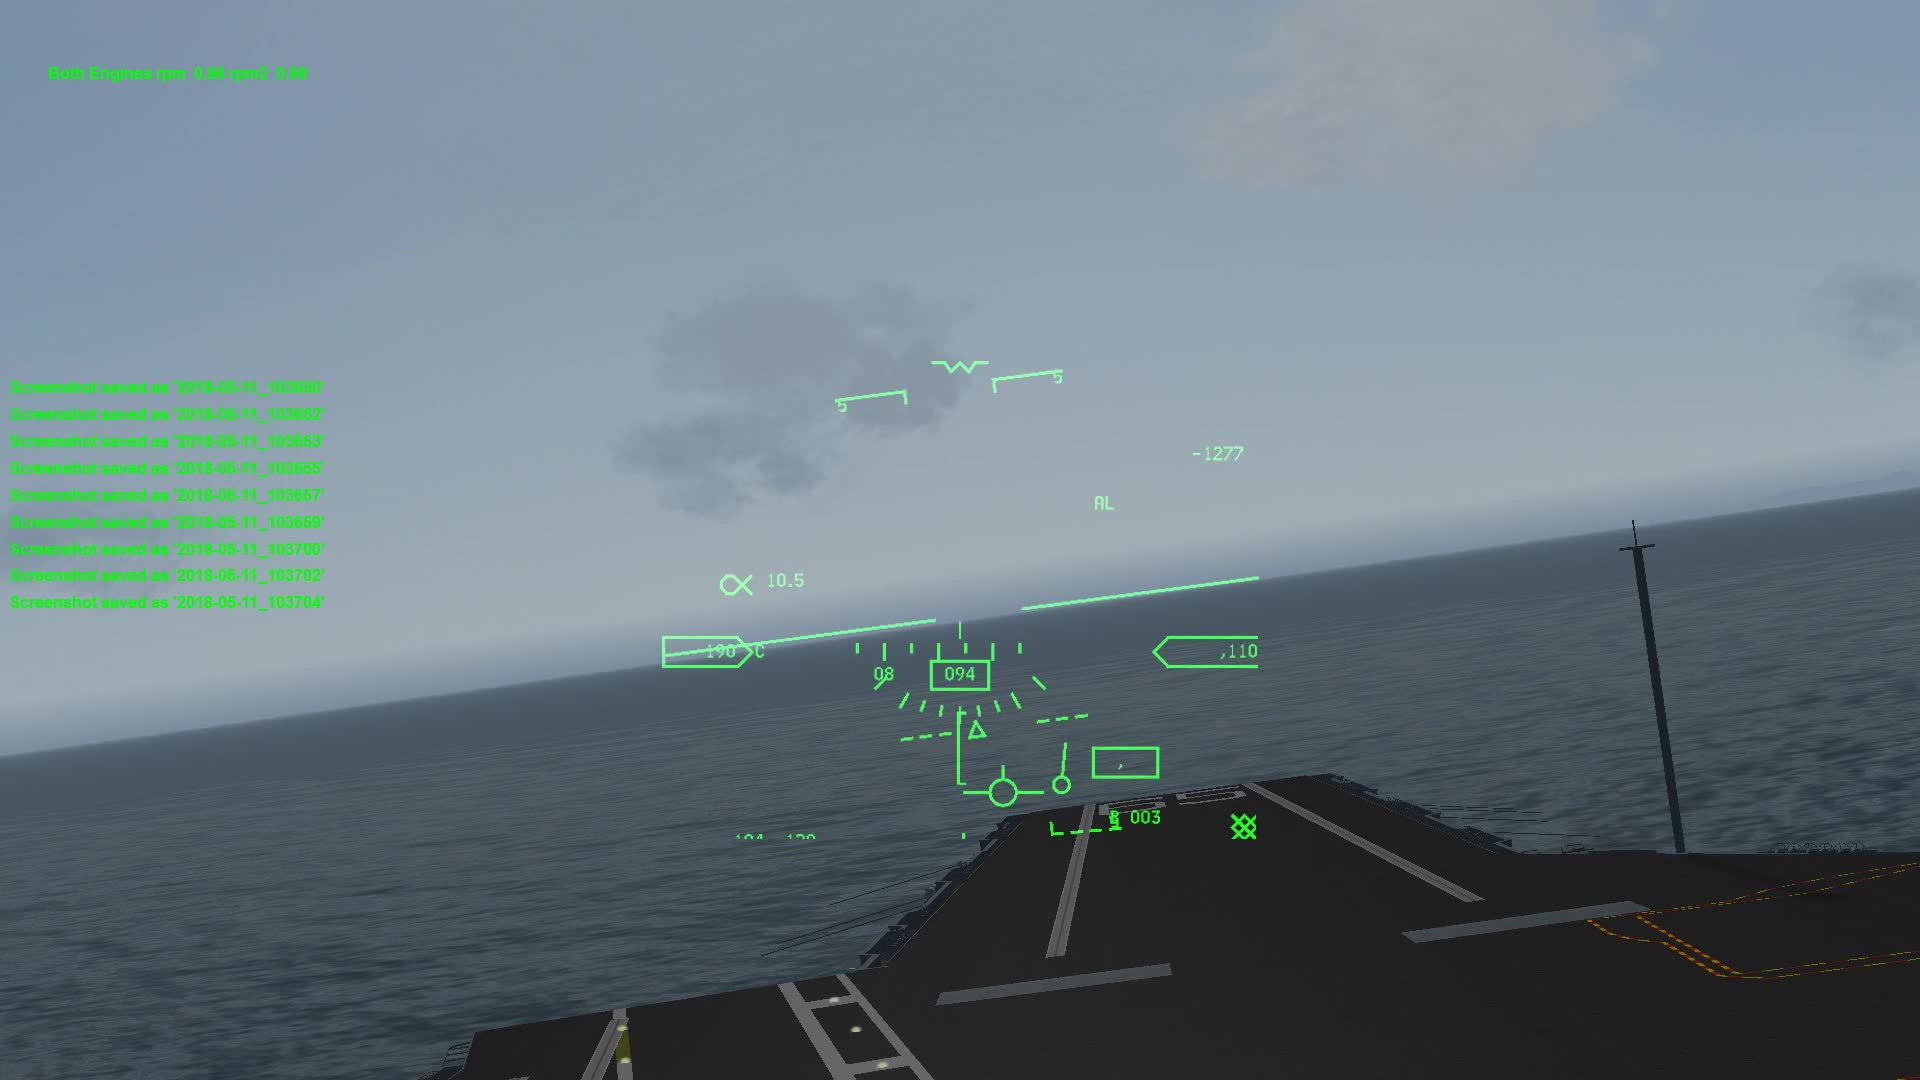speed vector: (965, 753, 1047, 814)
